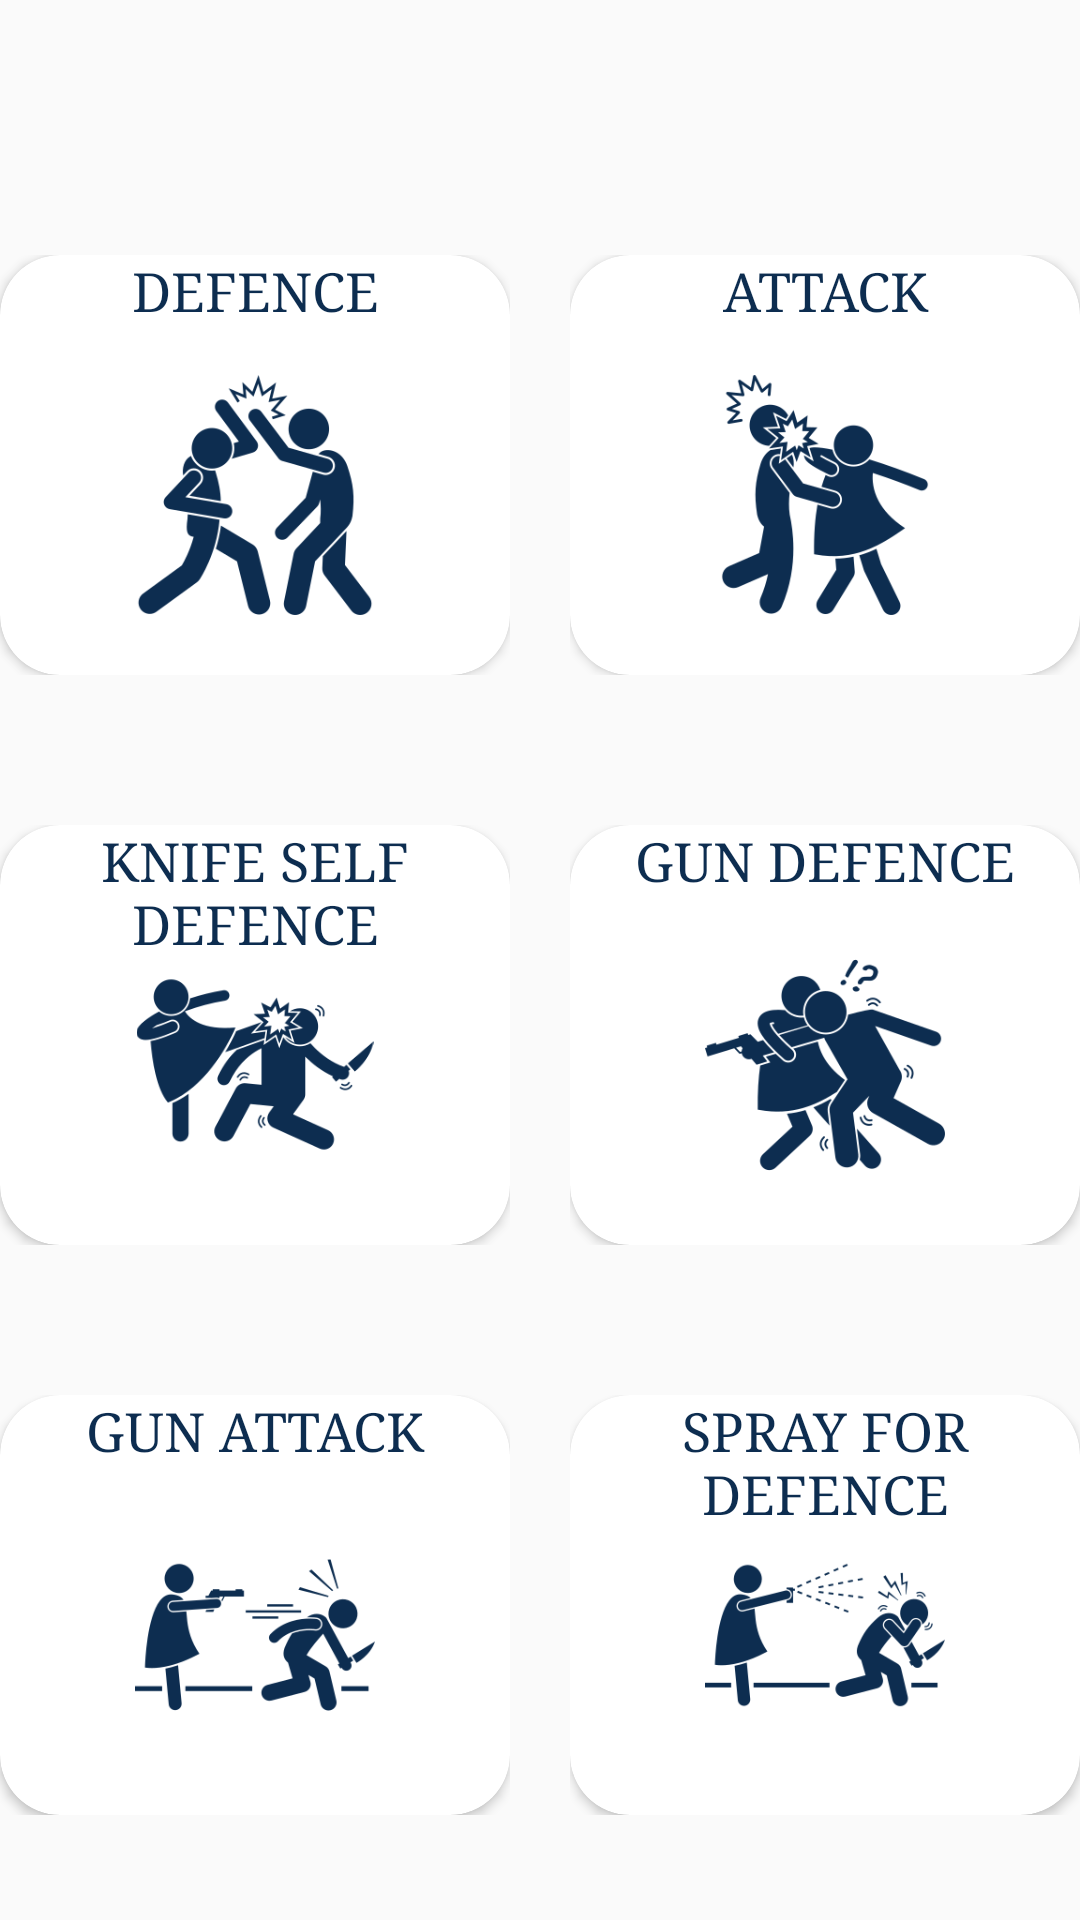

Point at icon controls on the screen. Image size 1080*1920, points as [x,y].
man gun: [825,1064]
spray attack: [825,1635]
